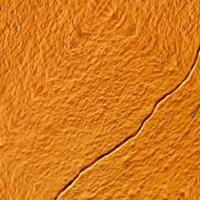crack: (51, 42, 196, 199)
